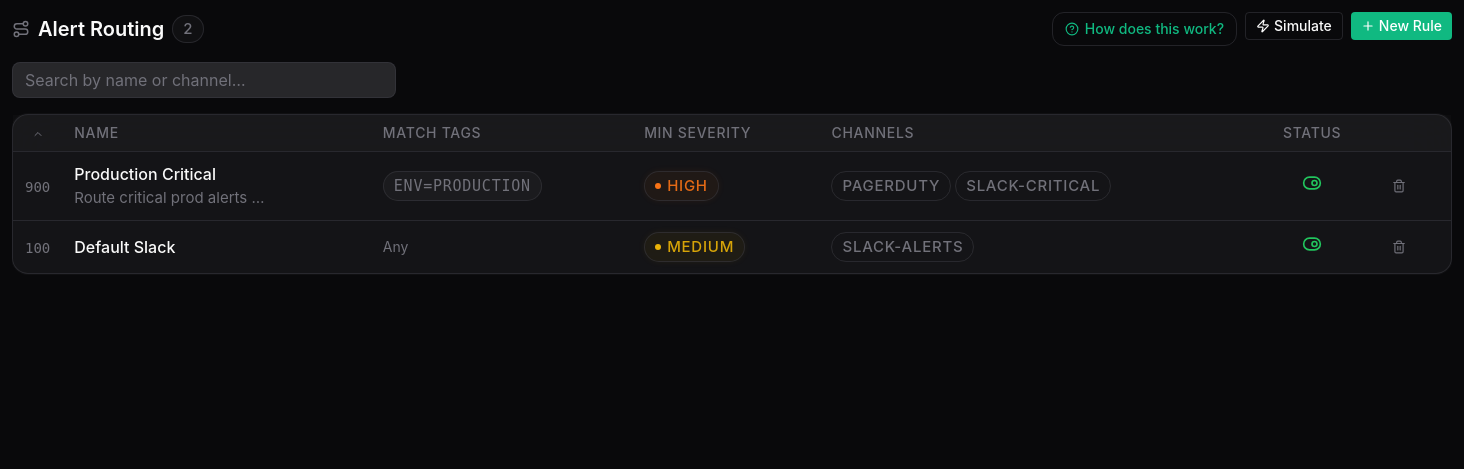
Test: AlertRoutingPage › shows simulate panel when Simulate clicked
Click the button "Simulate" at (1294, 26), box x1=1245 y1=12 x2=1343 y2=40
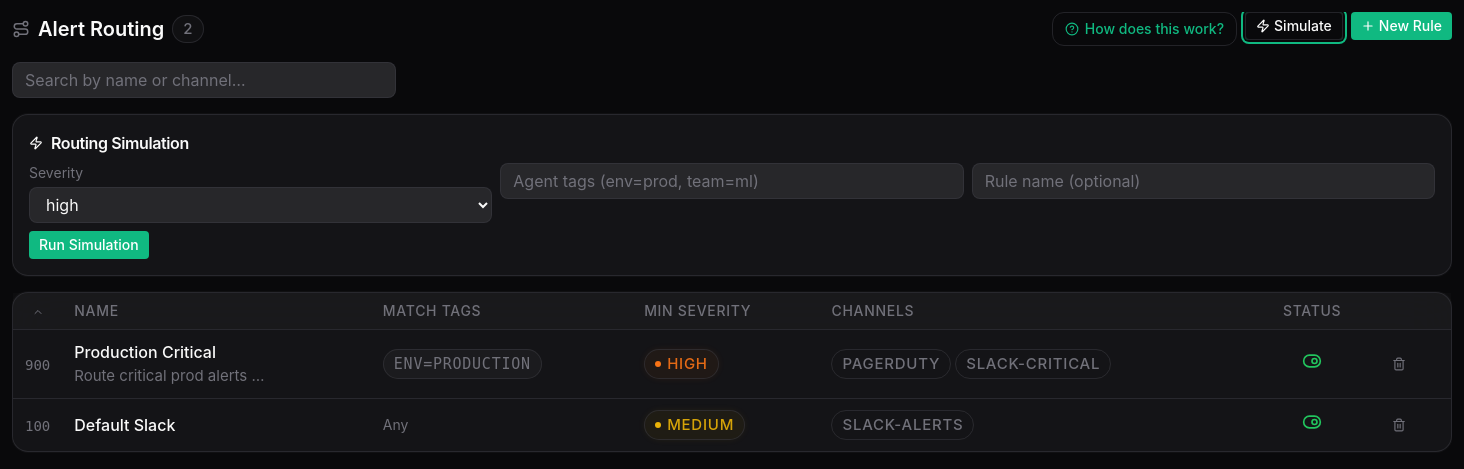
Expected: the text "Routing Simulation" is shown, x1=29 y1=133 x2=189 y2=153
Expected: the dropdown named "Simulation severity" is shown, x1=29 y1=187 x2=492 y2=223
Expected: the field named "Simulation agent tags" is shown, x1=500 y1=163 x2=964 y2=199
